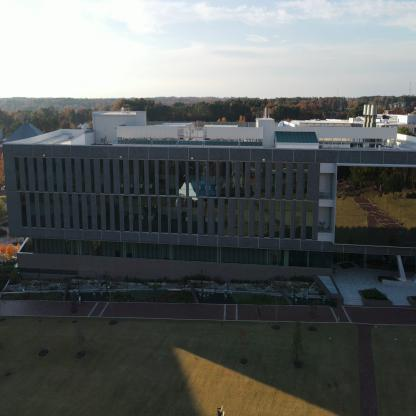Fitts- Woolard: (2, 124, 414, 310)
